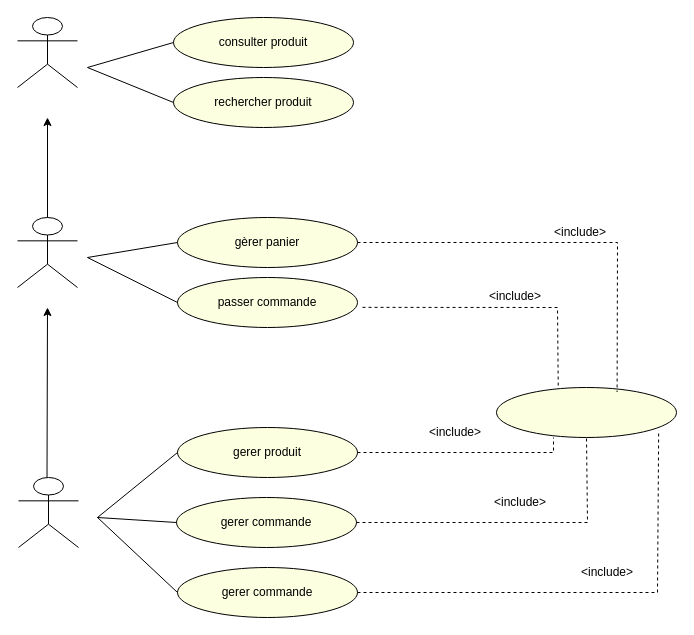
Some shapes in this 694 by 635 pixel diagram are drawn without their labels. The shapes that lost their labels are listed below. From the top down, each one's centre as x and y in pixels, then its label:
the point at 47,52: visiteur
the point at 47,252: client
the point at 586,412: authentifier
the point at 48,512: admin
